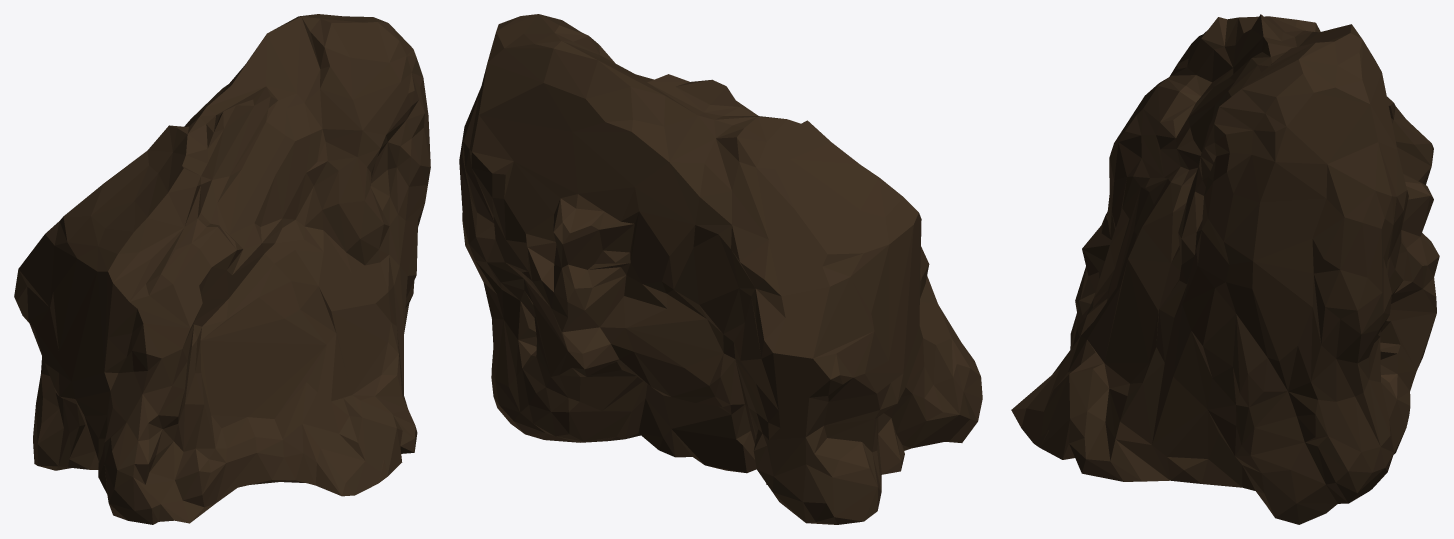
The model's file is SM_cliff_05.FBX.
3 renders of one model, left to right at view 1: azimuth 30°, elevation 25°; view 2: azimuth 150°, elevation 25°; view 3: azimuth 270°, elevation 25°, orthographic. The views are drawn at different scales.
Parts seen in each view (by area): view 1: Object022; view 2: Object022; view 3: Object022.
Boxes of the visible parts, x1=… form: Object022: x1=14, y1=14, x2=430, y2=524; Object022: x1=459, y1=14, x2=982, y2=524; Object022: x1=1011, y1=14, x2=1439, y2=524.
Size of the model in its own units: 1329 by 1295 by 1063.
